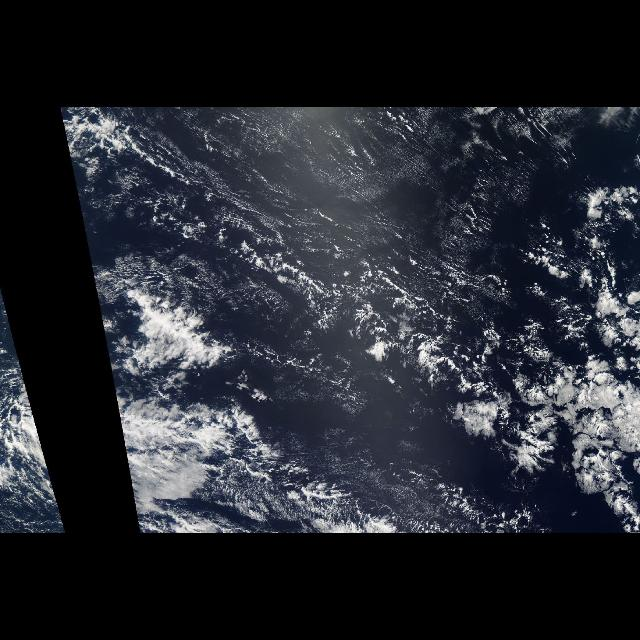Gravel: (264, 244, 548, 398)
Sugar: (187, 108, 549, 250)
